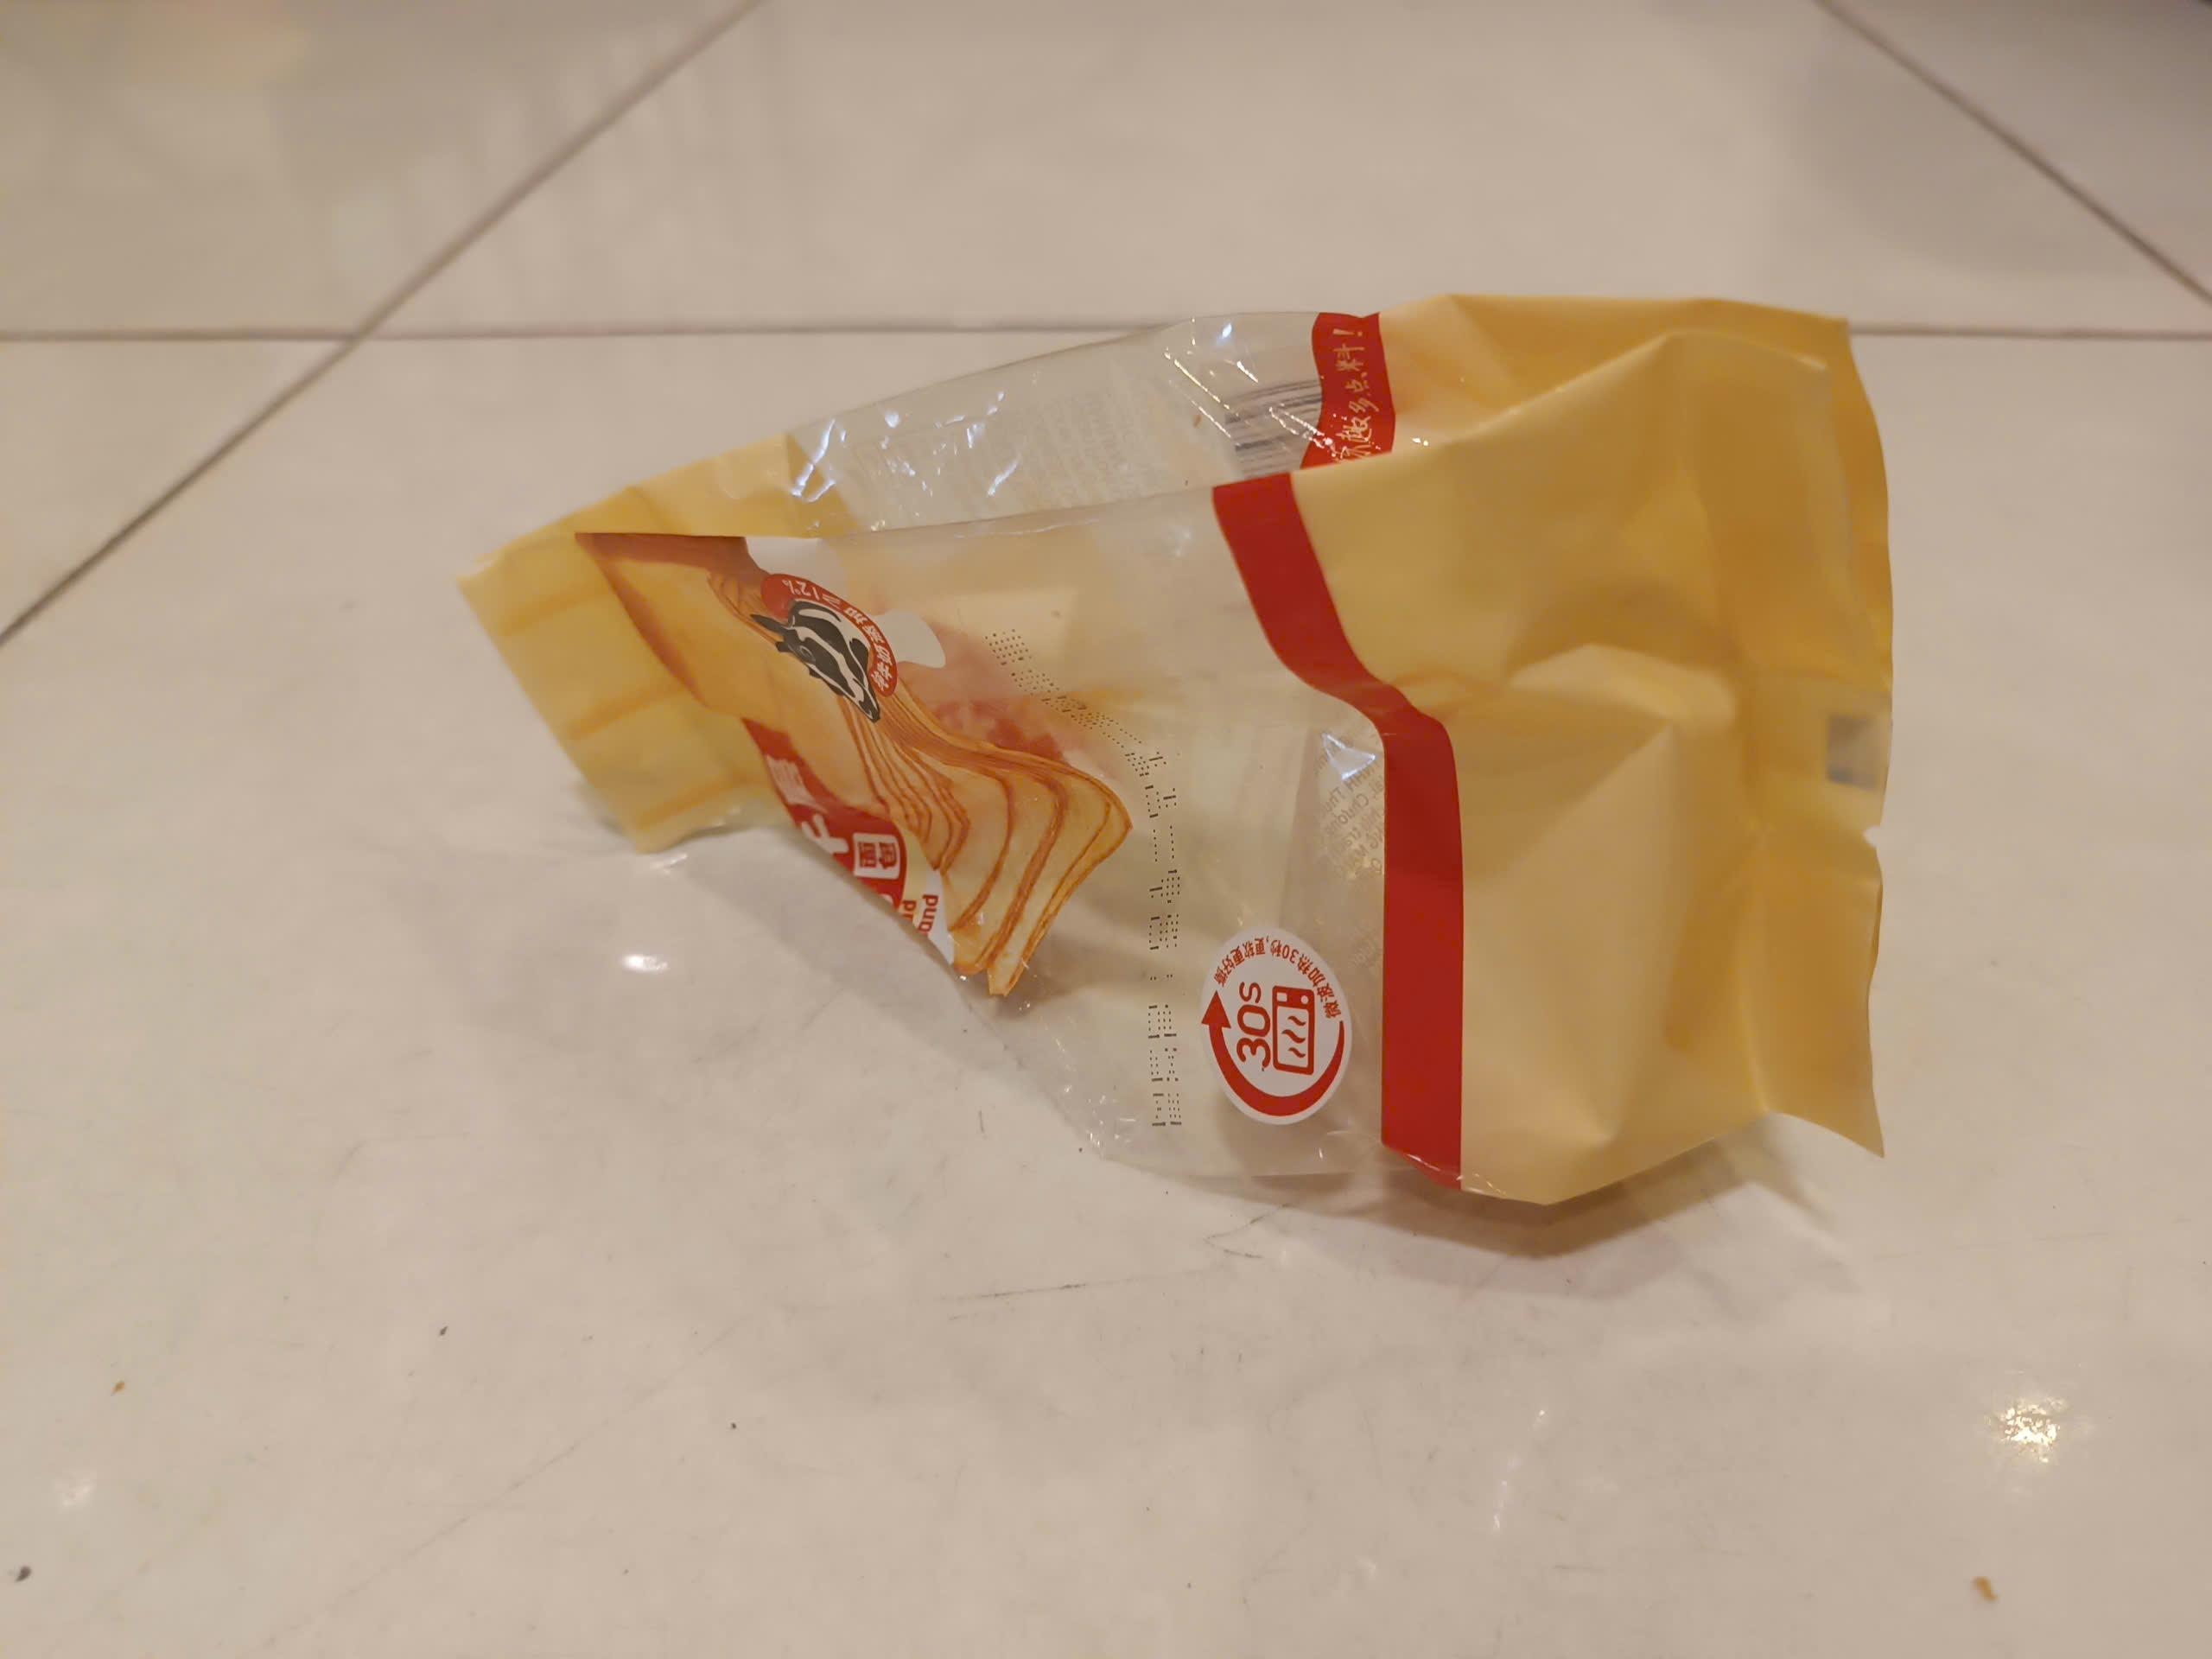Vo co: (455, 295, 1897, 1218)
